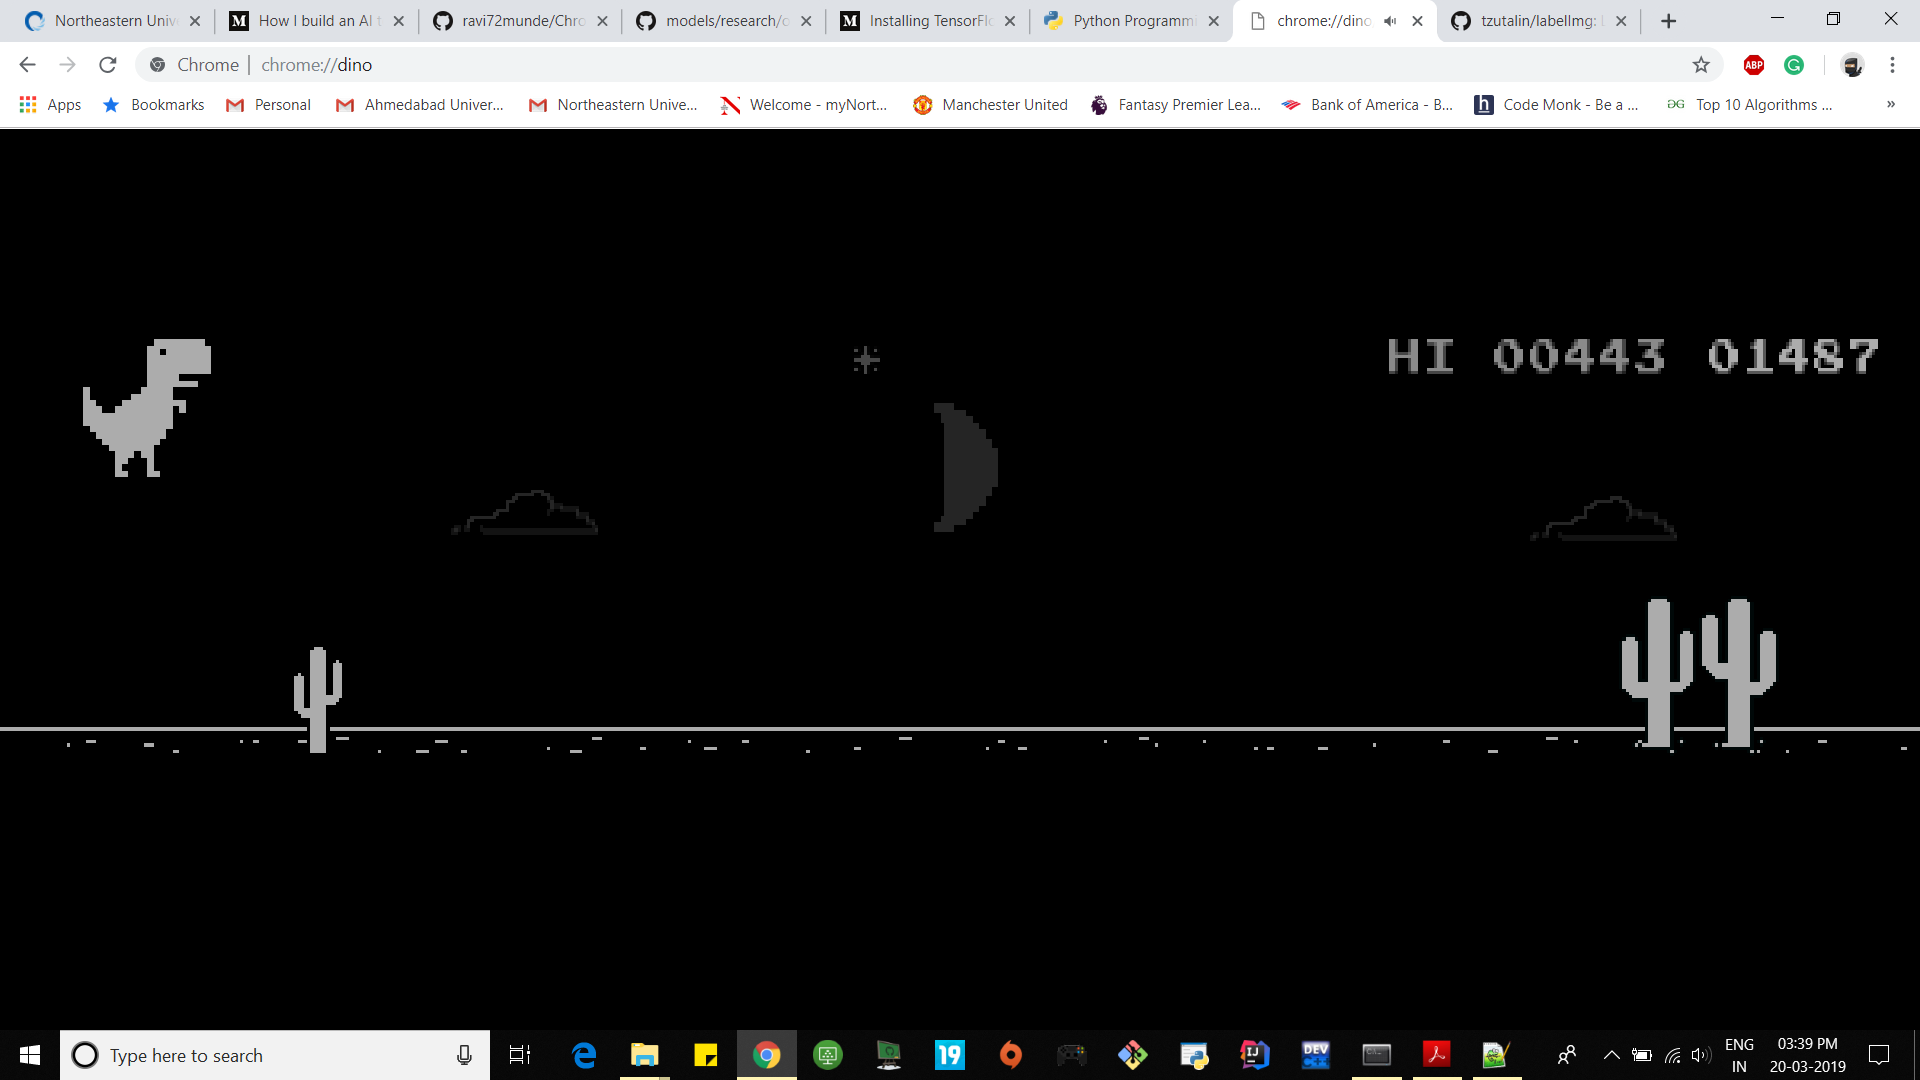cactus-2: (1619, 593, 1776, 748)
cactus-small: (293, 642, 344, 756)
dino: (83, 338, 210, 477)
